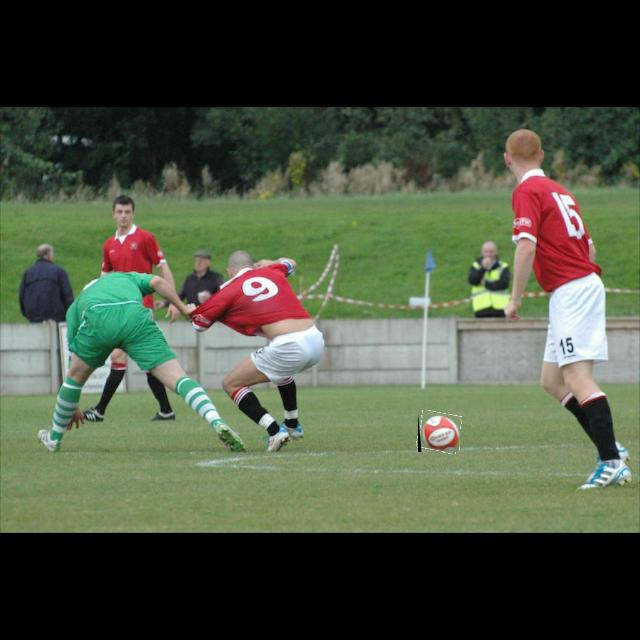Football: (418, 412, 460, 452)
